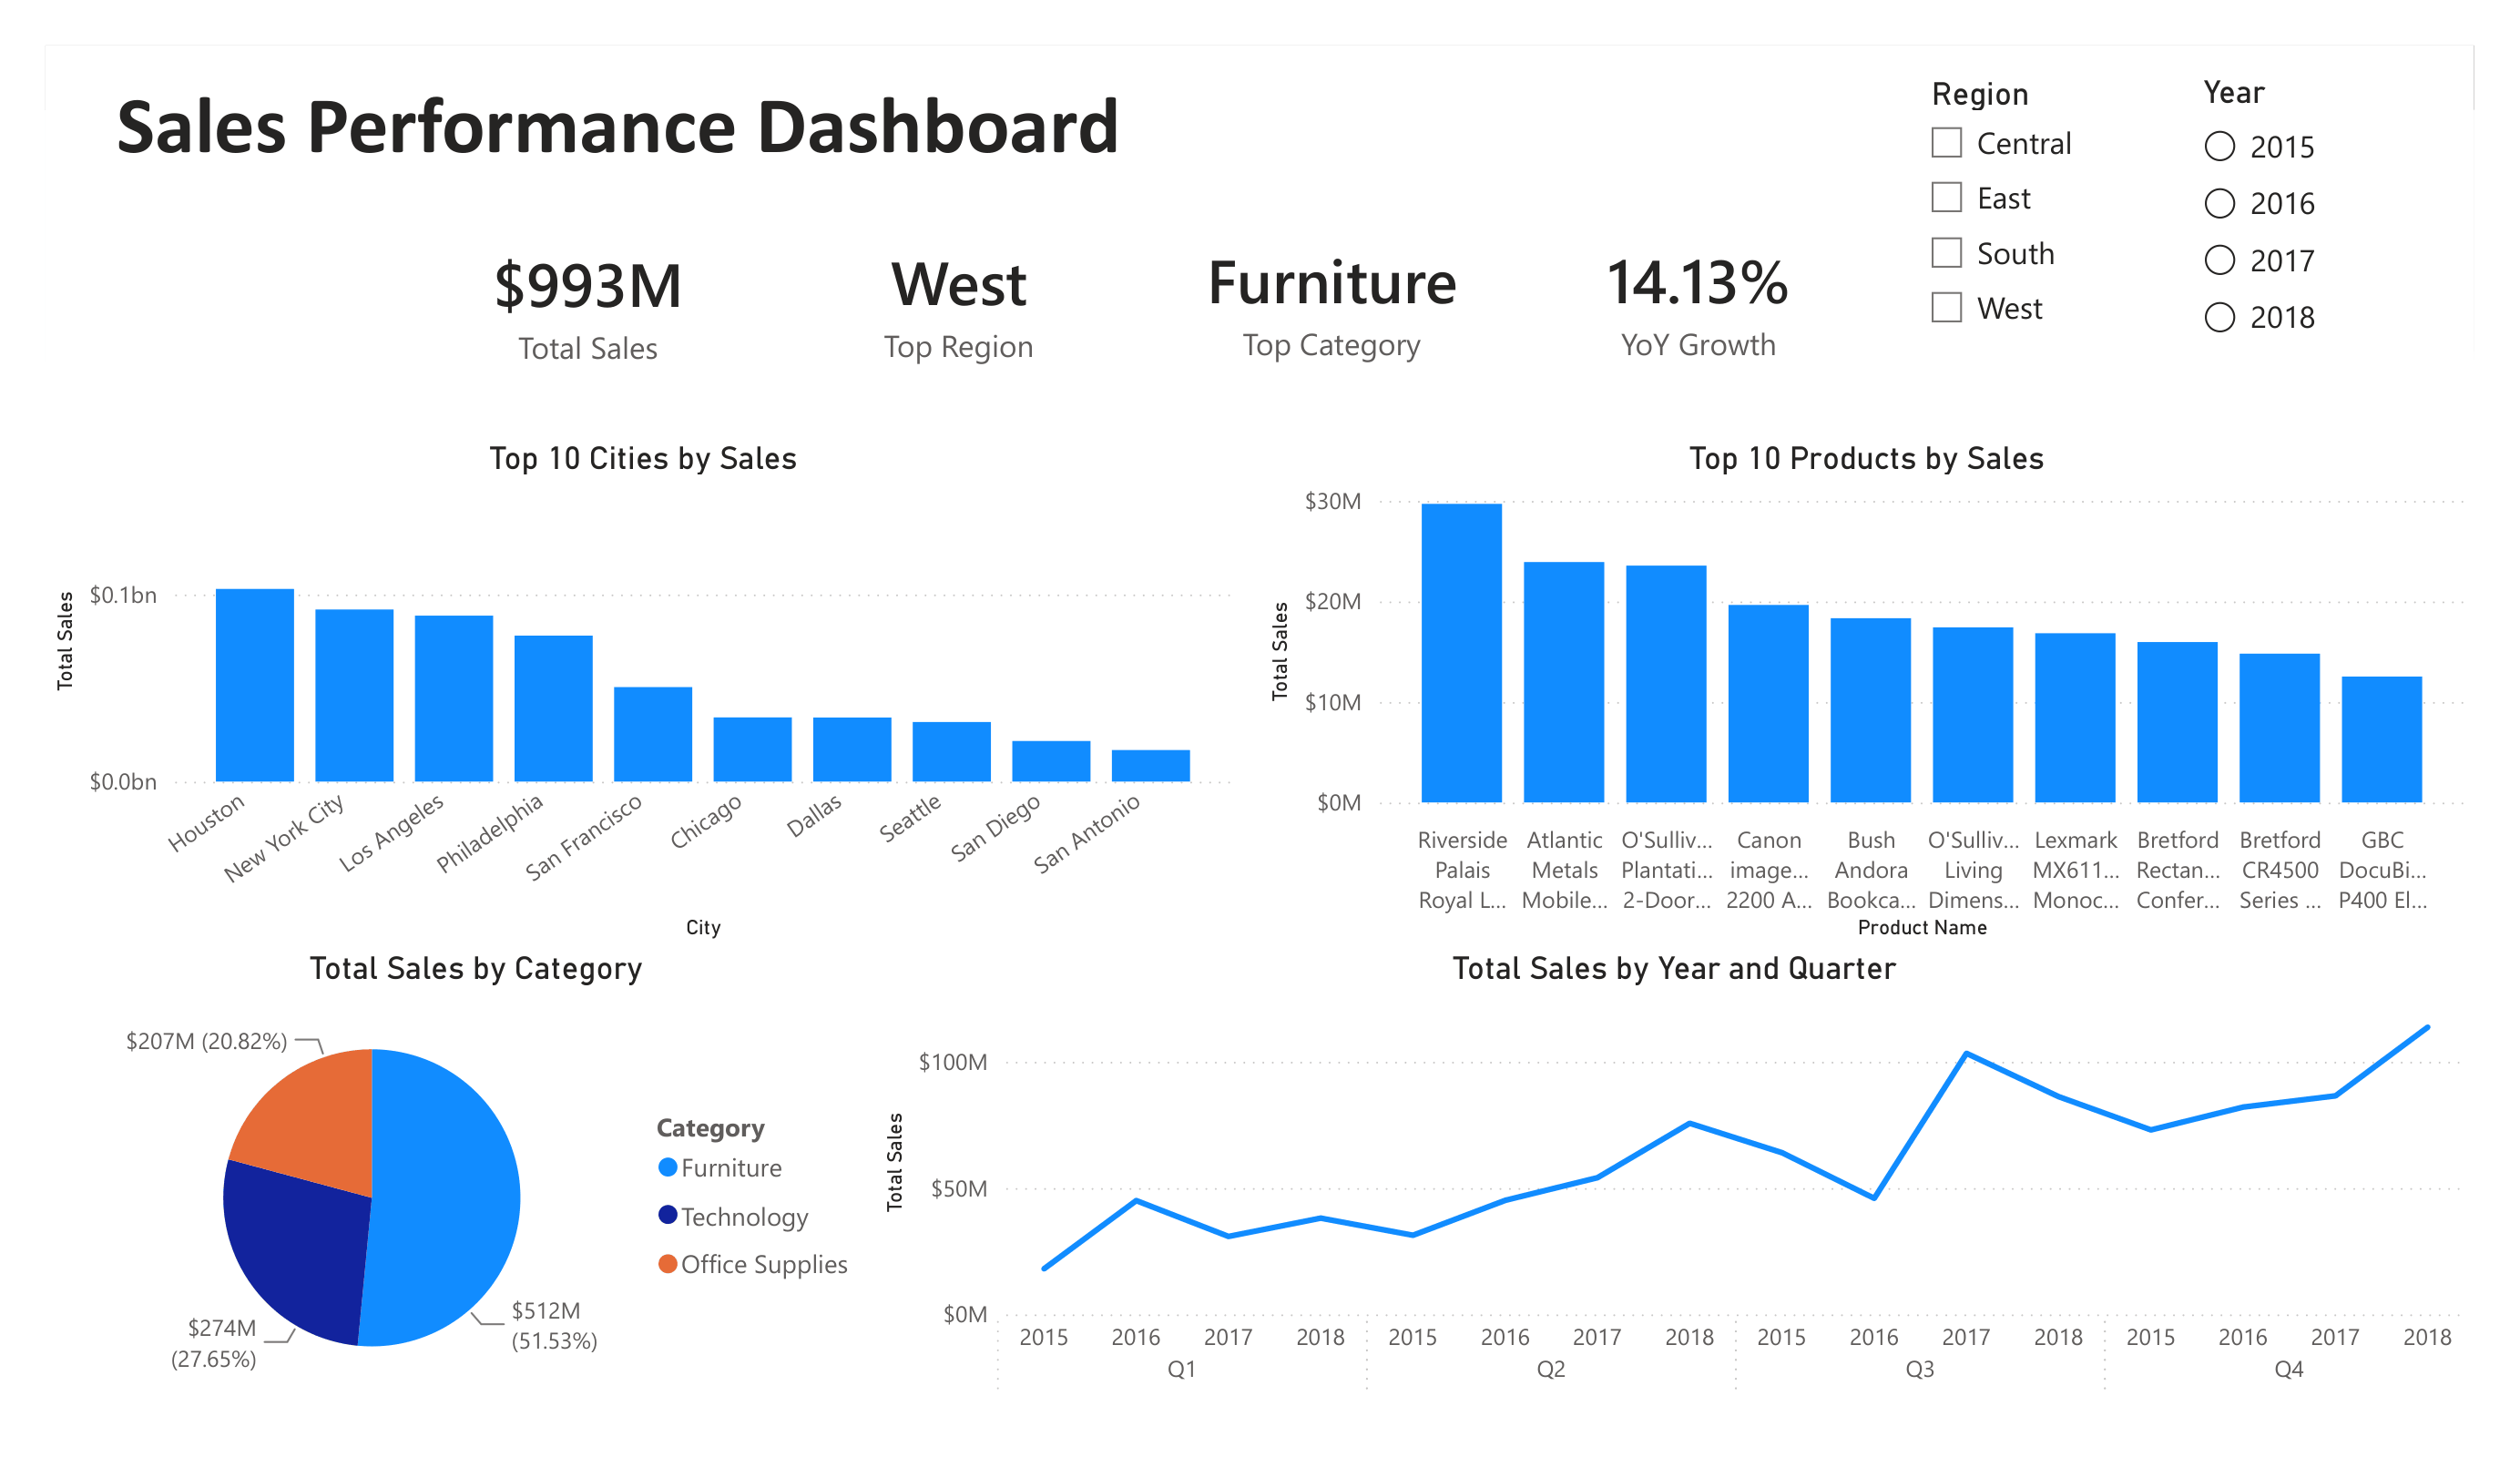

This screenshot's page, from the dashboard's own definition file:
{"tool":"powerbi","page":{"name":"Page 1","canvas":[1280,720],"ordinal":0},"visuals":[{"type":"cardVisual","fields":{"Data":["Sum(Raw dataset.Sales)"]},"box":[187,83,198,106],"z":0},{"type":"cardVisual","fields":{"Data":["Raw dataset.Top Region"]},"box":[392,82,179,106],"z":1000},{"type":"cardVisual","fields":{"Data":["Raw dataset.Top Catagory"]},"box":[579,81,198,106],"z":2000},{"type":"lineChart","title":"Total Sales by Year and Quarter","fields":{"Category":["Calendar.Quarter","Calendar.Year"],"Y":["Sum(Raw dataset.Sales)"]},"box":[437,476,843,244],"z":3000},{"type":"pieChart","title":"Total Sales by Category","fields":{"Category":["Raw dataset.Category"],"Y":["Sum(Raw dataset.Sales)"]},"box":[17.1,475.7,419.4,244.6],"z":4000},{"type":"listSlicer","fields":{"Values":["Calendar.Year"]},"box":[1131.6,13.9,124.7,159],"z":5000},{"type":"clusteredColumnChart","title":"Top 10 Cities by Sales","fields":{"Category":["Raw dataset.City"],"Y":["Sum(Raw dataset.Sales)"]},"box":[0,206.7,629.8,269],"z":6000},{"type":"slicer","fields":{"Values":["Raw dataset.Region"]},"box":[981.2,10.3,150.4,165.1],"z":7000},{"type":"textbox","box":[0,9.8,604.1,74.6],"z":8000},{"type":"clusteredColumnChart","title":"Top 10 Products by Sales","fields":{"Category":["Raw dataset.Product Name"],"Y":["Sum(Raw dataset.Sales)"]},"box":[639.5,206.7,640.8,269],"z":10000},{"type":"cardVisual","fields":{"Data":["Raw dataset.YoY Growth"]},"box":[784.7,82.7,173.6,103.9],"z":11000}]}

Visuals, with their boxes on the page's 1280x720 design canvas (x1, y1, x2, y2). These are canvas units, not pixel positions in the 2520x1457 screenshot, which may show the page scaled, cropped or inside an application window:
cardVisual - Sum(Raw dataset.Sales): BBox(187, 83, 385, 189)
cardVisual - Raw dataset.Top Region: BBox(392, 82, 571, 188)
cardVisual - Raw dataset.Top Catagory: BBox(579, 81, 777, 187)
"Total Sales by Year and Quarter" lineChart: BBox(437, 476, 1280, 720)
"Total Sales by Category" pieChart: BBox(17, 476, 436, 720)
listSlicer - Calendar.Year: BBox(1132, 14, 1256, 173)
"Top 10 Cities by Sales" clusteredColumnChart: BBox(0, 207, 630, 476)
slicer - Raw dataset.Region: BBox(981, 10, 1132, 175)
textbox: BBox(0, 10, 604, 84)
"Top 10 Products by Sales" clusteredColumnChart: BBox(640, 207, 1280, 476)
cardVisual - Raw dataset.YoY Growth: BBox(785, 83, 958, 187)
